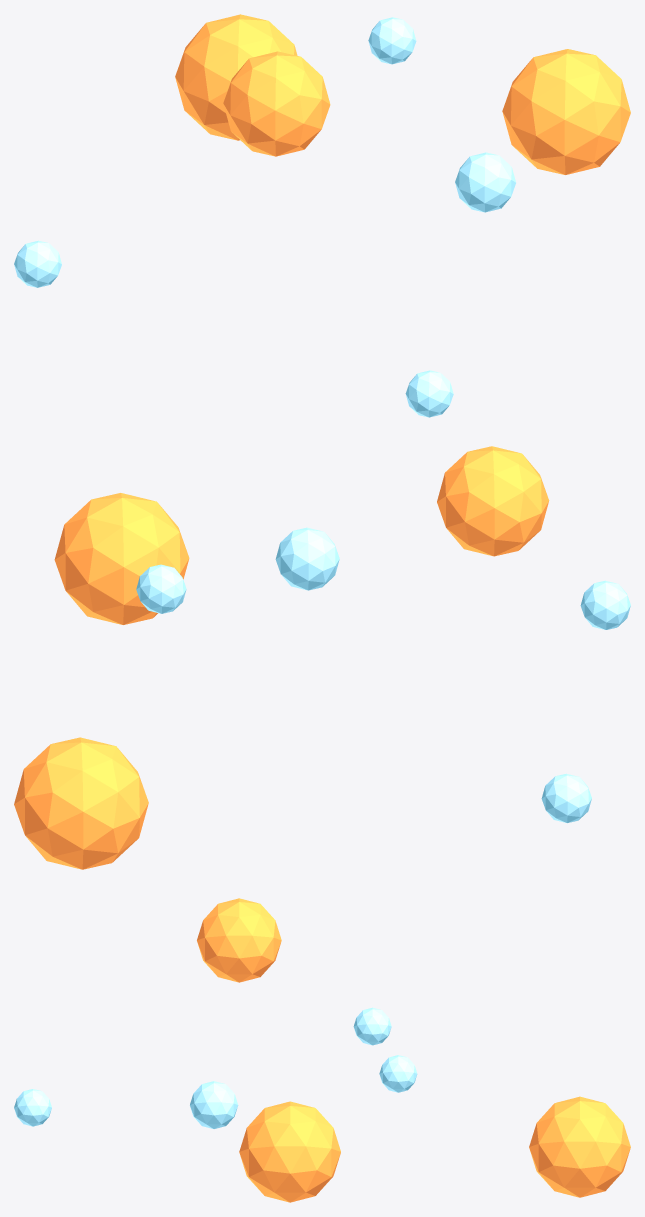
File: balls.dae
The picture shows the model from 3 angles, top to bottom: view 1: azimuth 30°, elevation 25°; view 2: azimuth 150°, elevation 25°; view 3: azimuth 270°, elevation 25°; orthographic projection. The views are drawn at different scales.
Visible parts, largest first — view 1: balls (×2); view 2: balls (×2); view 3: balls (×2).
Part boxes in pixels (bbox=[...]): balls (×2): bbox=[14, 14, 630, 417]; balls (×2): bbox=[14, 446, 630, 869]; balls (×2): bbox=[14, 898, 630, 1202].
Size of the model in its own units: 15.96 by 7.75 by 19.47.
